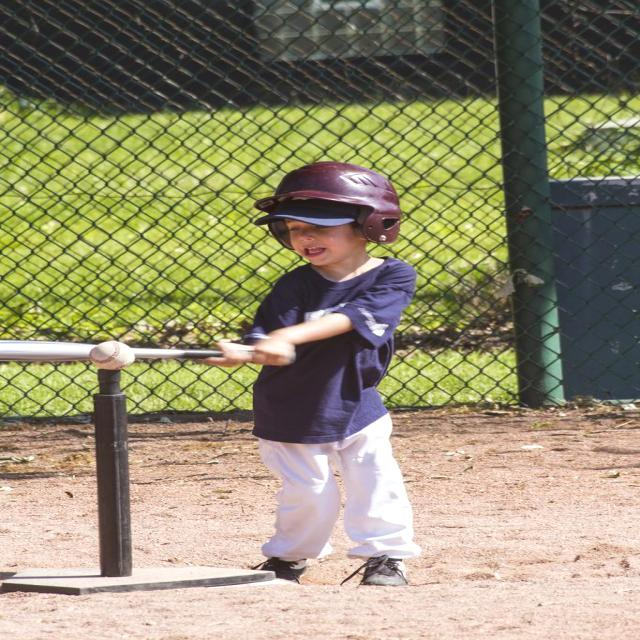sports ball: (92, 340, 134, 374)
